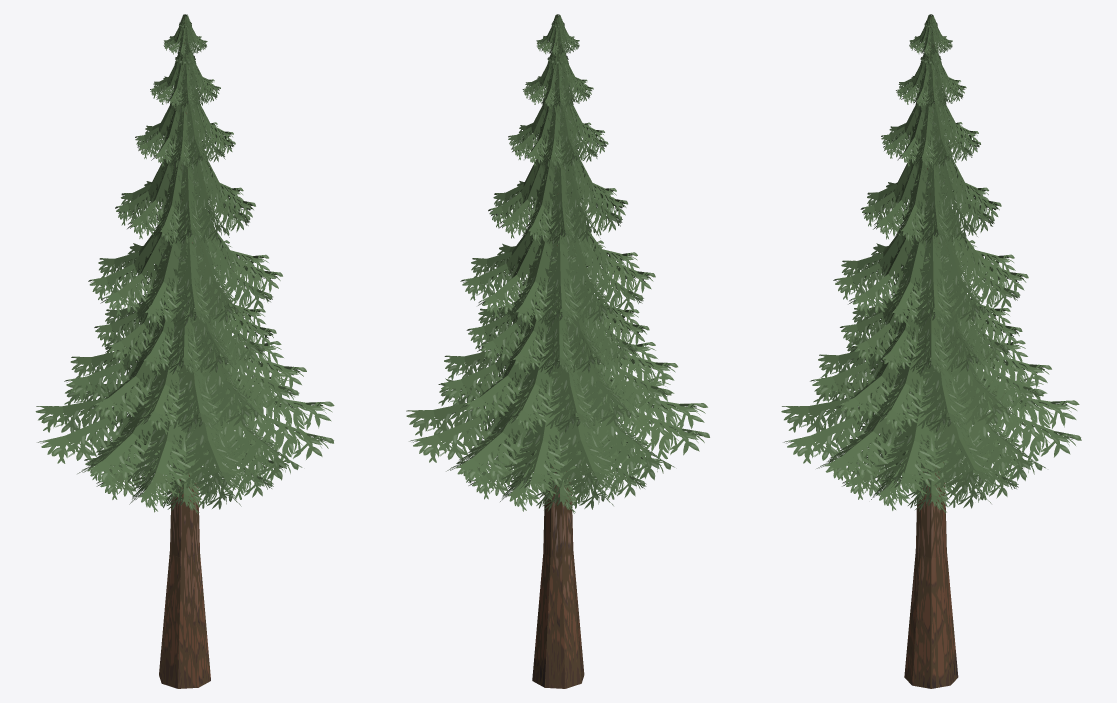
The model's file is PineTree.fbx.
3 renders of one model, left to right at view 1: azimuth 30°, elevation 25°; view 2: azimuth 150°, elevation 25°; view 3: azimuth 270°, elevation 25°, orthographic.
Visible parts, largest first — view 1: Cylinder, Pine tree; view 2: Cylinder, Pine tree; view 3: Cylinder, Pine tree.
Boxes of the visible parts, bbox=[...] form: Cylinder: bbox=[35, 14, 334, 513]; Pine tree: bbox=[159, 18, 210, 688]; Cylinder: bbox=[406, 14, 709, 513]; Pine tree: bbox=[532, 18, 584, 688]; Cylinder: bbox=[781, 14, 1081, 513]; Pine tree: bbox=[904, 18, 958, 688].
Bounding box in the file's own units: 528 × 1121 × 525.
